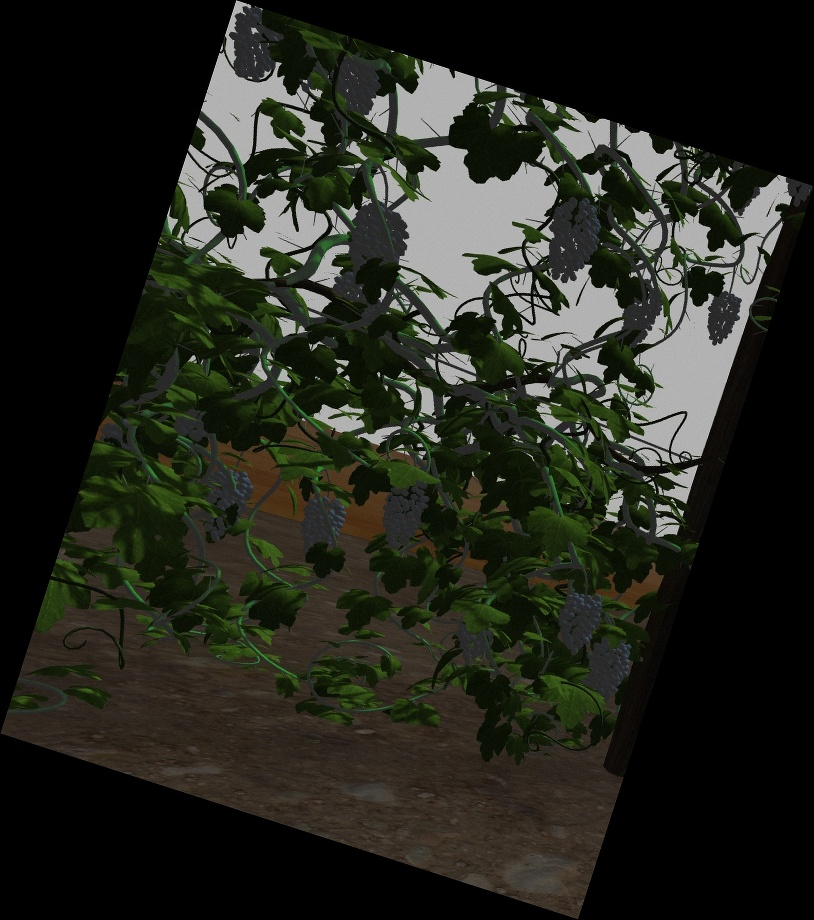grape: (346, 204, 408, 283), (548, 198, 599, 283), (202, 467, 248, 541), (379, 480, 424, 550), (229, 10, 273, 77), (556, 591, 598, 653), (621, 280, 660, 345), (300, 496, 343, 553), (334, 62, 380, 113), (589, 638, 627, 697), (703, 292, 739, 344), (453, 617, 490, 663)
